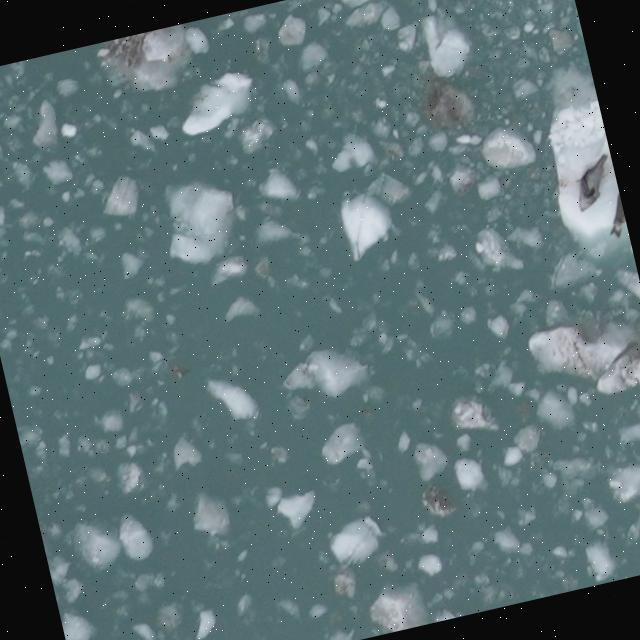seal: (564, 147, 622, 215), (591, 170, 629, 242)
